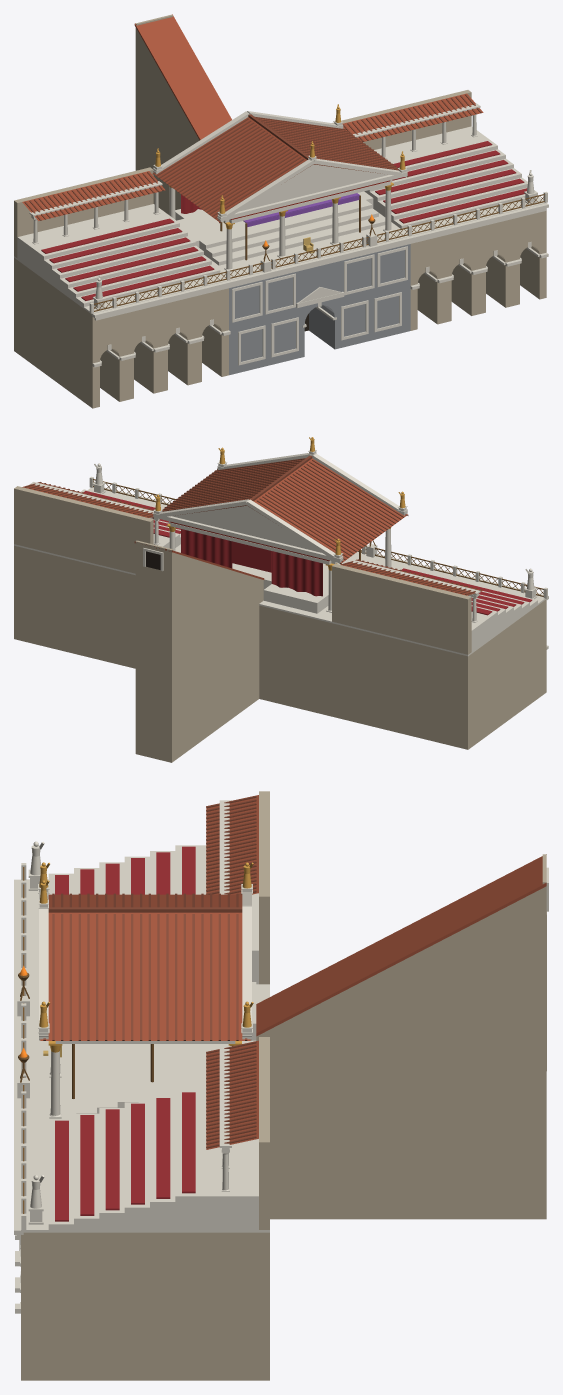
The model's file is rome_circus_pulvinar.glb.
3 renders of one model, top to bottom at view 1: azimuth 30°, elevation 25°; view 2: azimuth 150°, elevation 25°; view 3: azimuth 270°, elevation 25°, orthographic. The views are drawn at different scales.
Parts seen in each view (by area): view 1: rome_circus_pulvinar; view 2: rome_circus_pulvinar; view 3: rome_circus_pulvinar.
Boxes of the visible parts, <box> form: rome_circus_pulvinar: <box>14,14,548,408</box>; rome_circus_pulvinar: <box>14,437,548,762</box>; rome_circus_pulvinar: <box>14,791,548,1380</box>.
Bounding box in the file's own units: 60.36 × 26.85 × 38.66.
